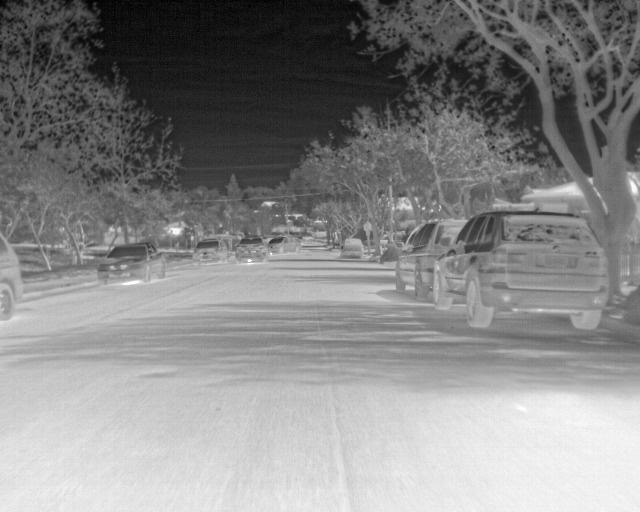car: (434, 212, 609, 331), (393, 220, 469, 301), (95, 241, 167, 284), (0, 226, 23, 321), (192, 236, 231, 263), (236, 237, 267, 261), (268, 234, 298, 255), (340, 237, 362, 260)
